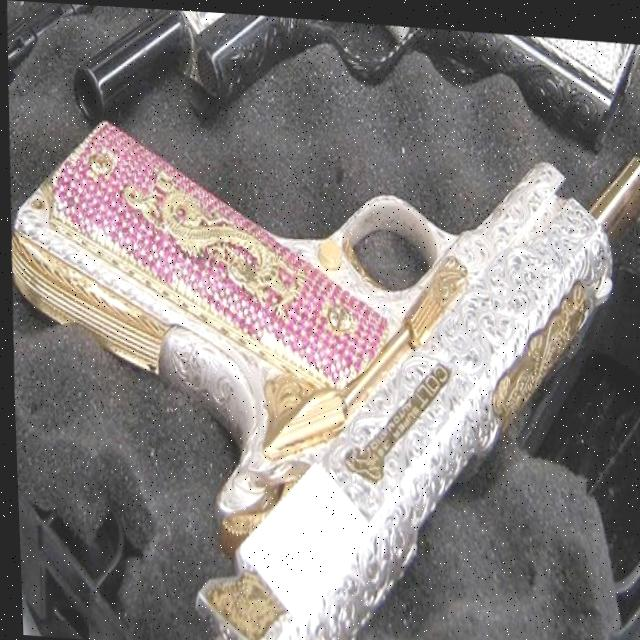pistol: (3, 101, 640, 640), (64, 3, 640, 160)
